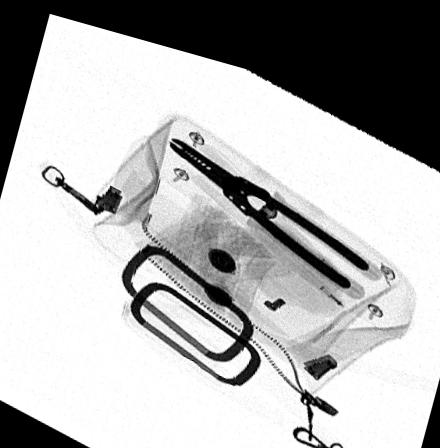Pliers: (164, 127, 370, 272)
